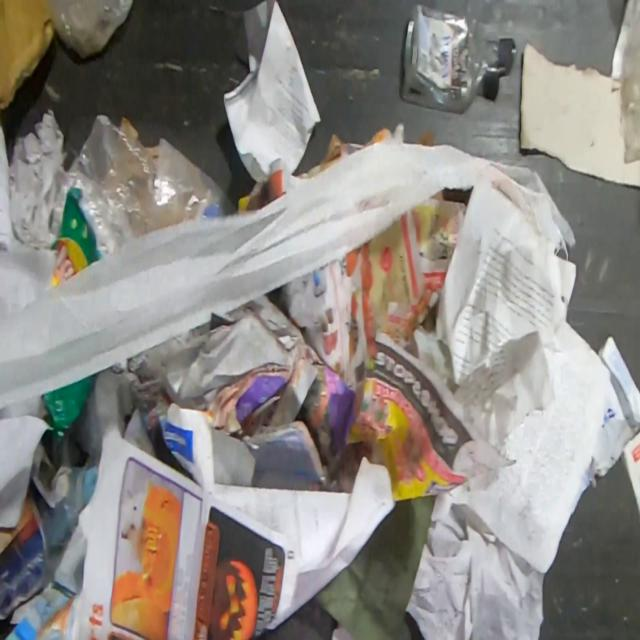cardboard: (0, 0, 56, 114)
rigid_plastic: (399, 4, 519, 117)
soft_plastic: (47, 111, 238, 259), (46, 187, 103, 290), (44, 0, 134, 59), (40, 374, 97, 444), (619, 0, 640, 164)
